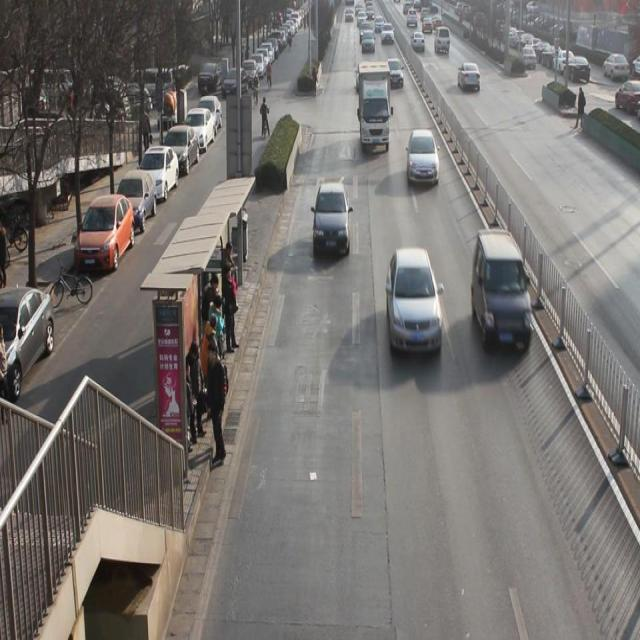bus: (358, 68, 392, 151)
car: (474, 231, 535, 353), (385, 252, 444, 354), (314, 183, 353, 253), (409, 130, 440, 185), (458, 62, 482, 94), (385, 56, 407, 90), (361, 28, 376, 56), (381, 23, 396, 45)
